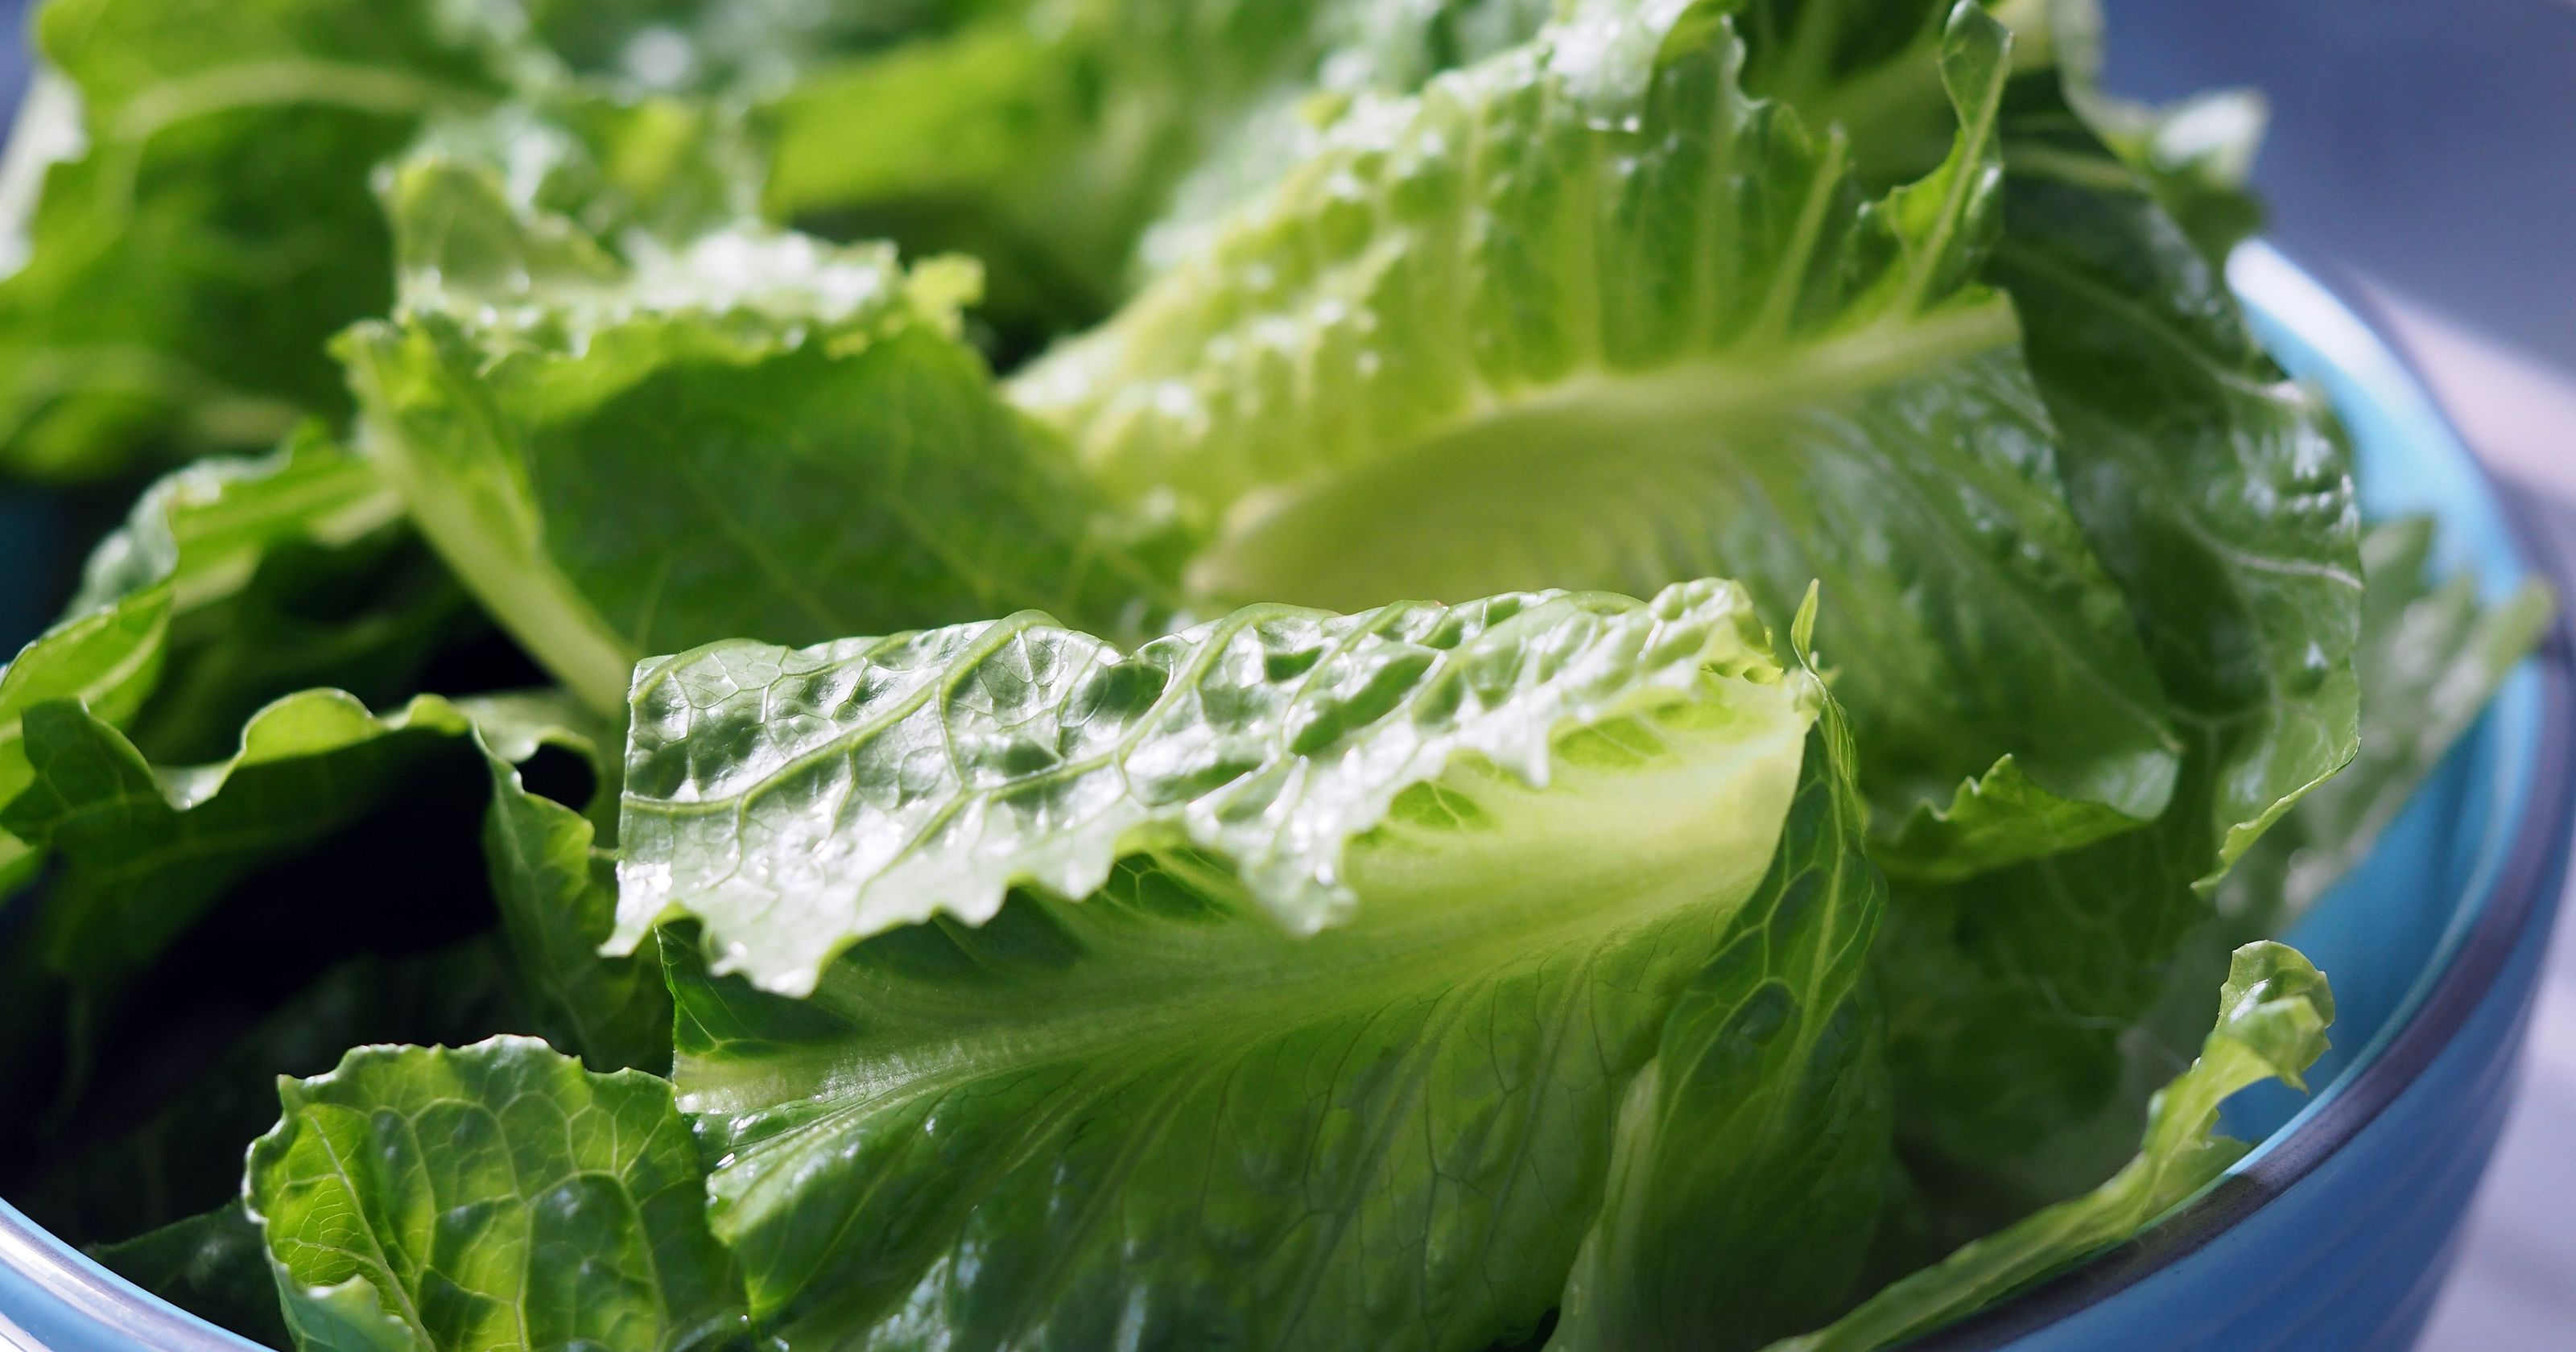chopped lettuce: (53, 19, 2390, 1352)
